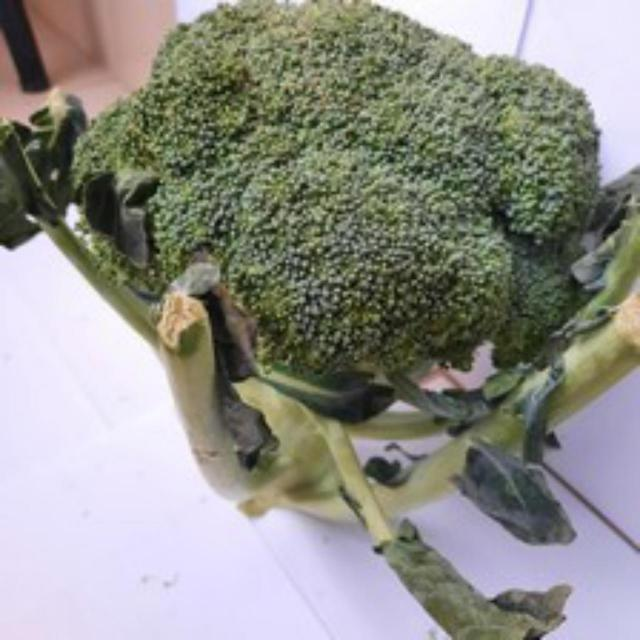broccoli: (72, 0, 608, 452)
